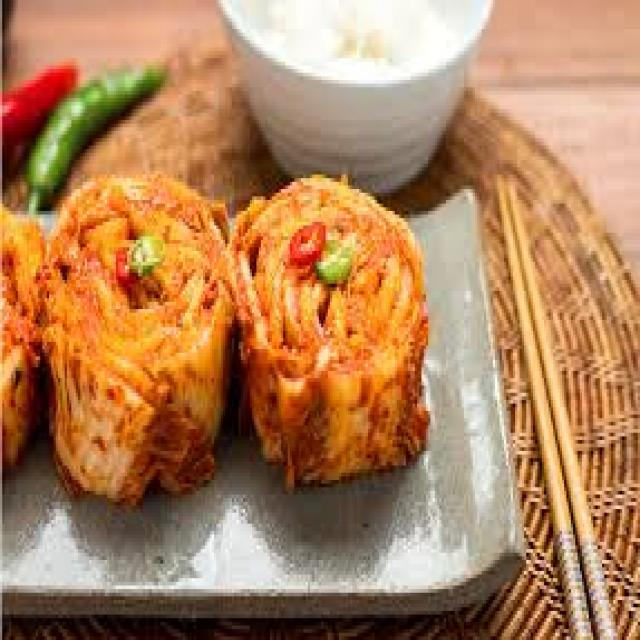kimchi: (0, 138, 446, 498)
